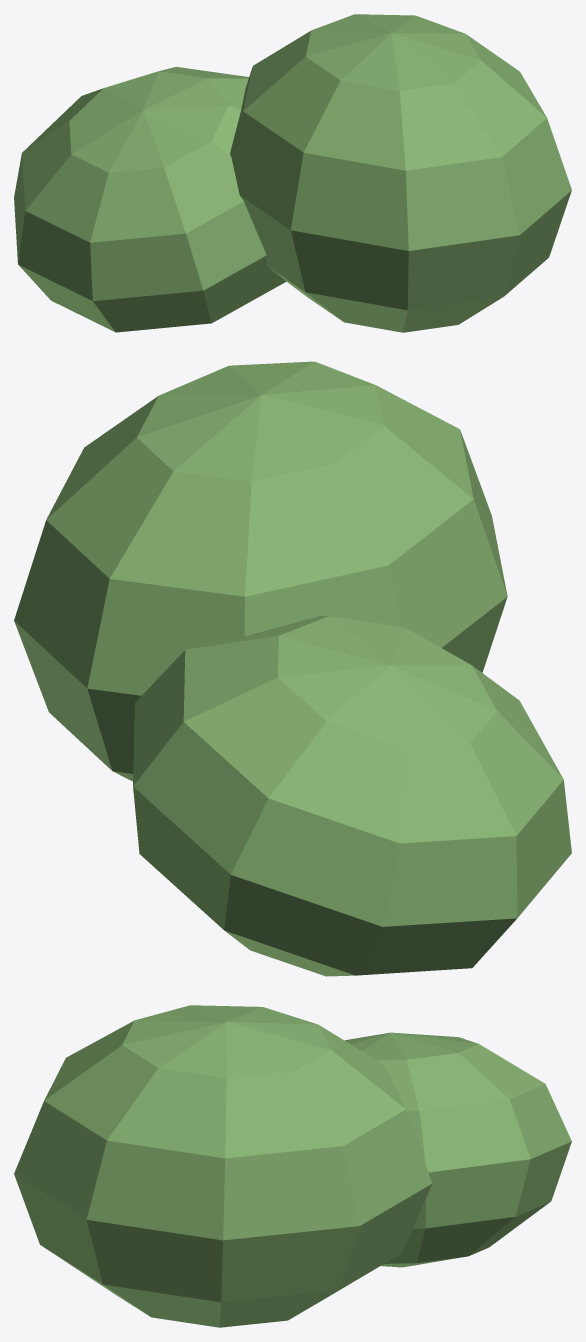
The model's file is bosje2.fbx.
3 renders of one model, top to bottom at view 1: azimuth 30°, elevation 25°; view 2: azimuth 150°, elevation 25°; view 3: azimuth 270°, elevation 25°, orthographic. The views are drawn at different scales.
Parts seen in each view (by area): view 1: bosje_2; view 2: bosje_2; view 3: bosje_2.
Part boxes in pixels (box(x1,y1,x2,y2)): bosje_2: box(14, 14, 571, 332); bosje_2: box(14, 361, 571, 976); bosje_2: box(14, 1005, 571, 1327).
Bounding box in the file's own units: 3.68 × 2.47 × 4.02.
